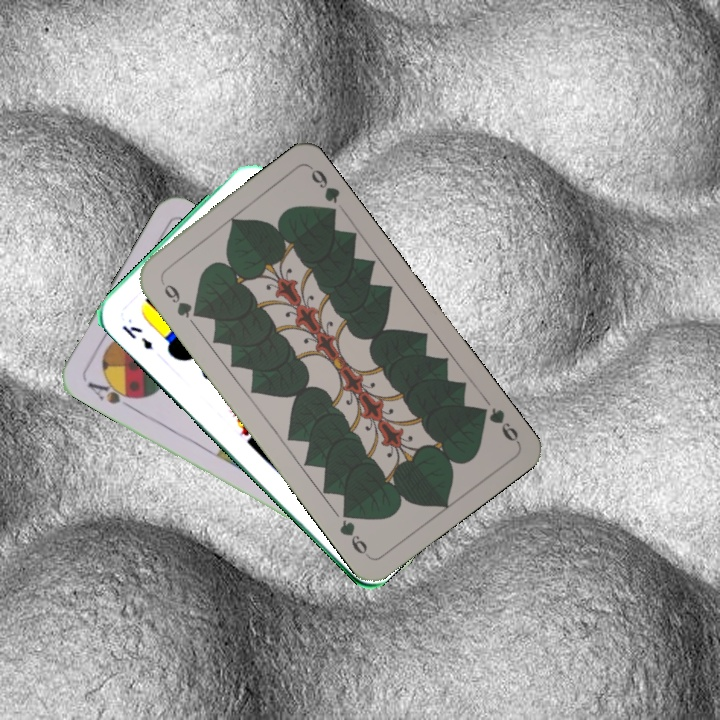EK: (117, 321, 155, 353)
G9: (472, 402, 522, 446), (156, 276, 204, 321)
SA: (83, 375, 140, 412)
